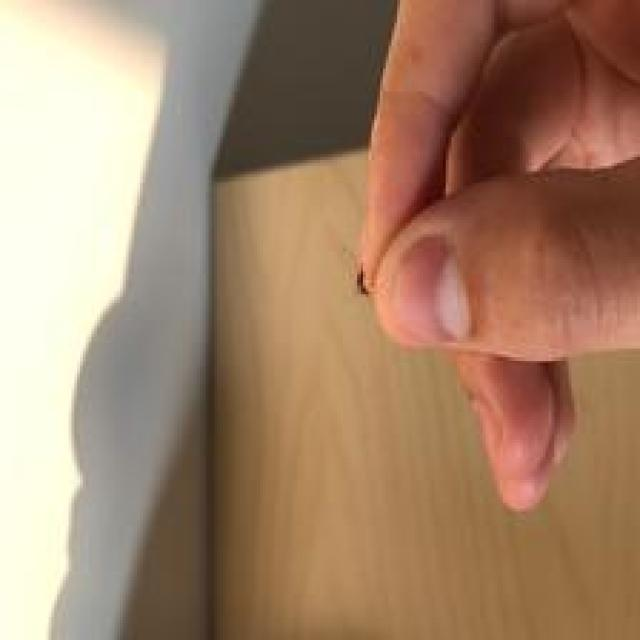Culex: (39, 0, 638, 640)
